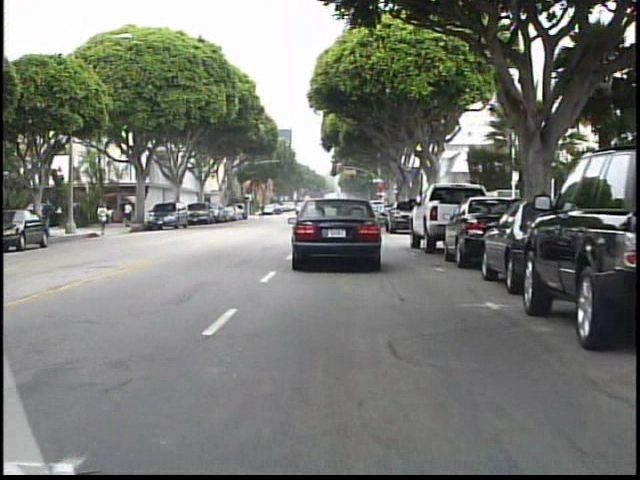person: (96, 199, 113, 238), (122, 198, 137, 232), (257, 200, 271, 221)
